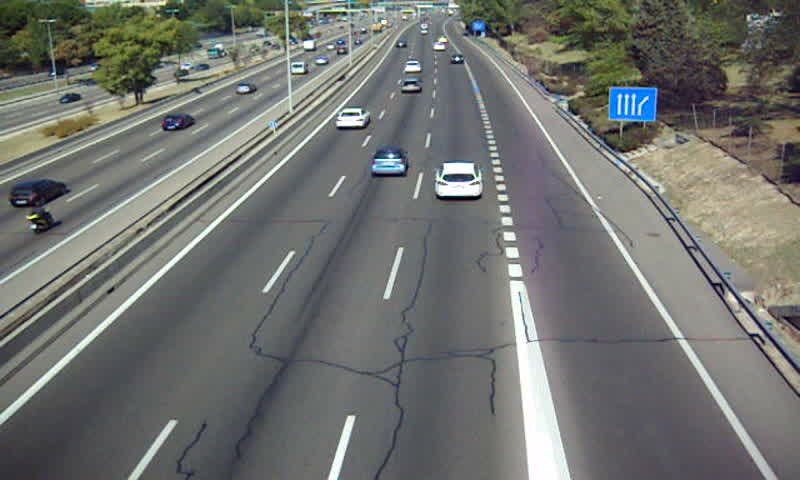car: (435, 162, 484, 197), (368, 148, 408, 179), (337, 110, 368, 128), (401, 79, 422, 94), (403, 60, 421, 73), (450, 52, 466, 65)
